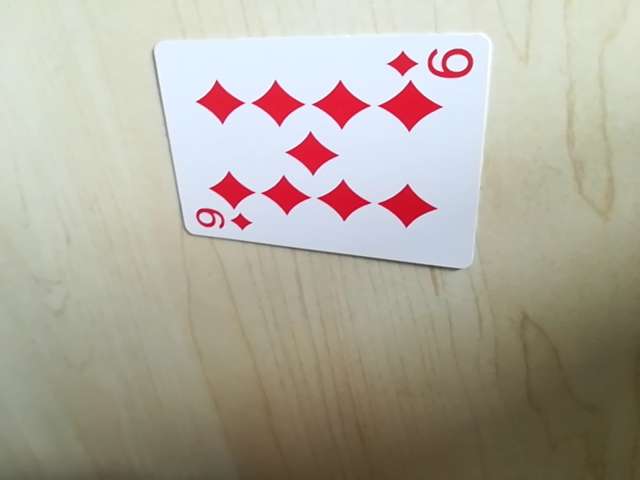fk 9: (386, 38, 479, 86), (192, 205, 256, 237)
